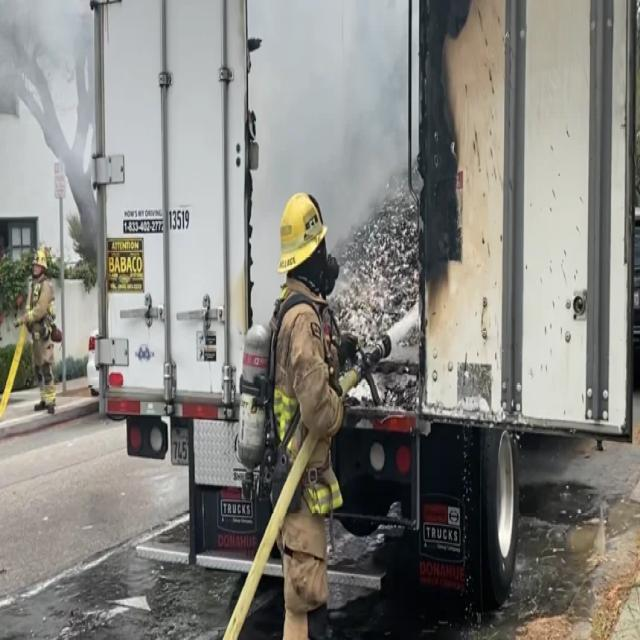Smoke: (250, 0, 419, 265)
